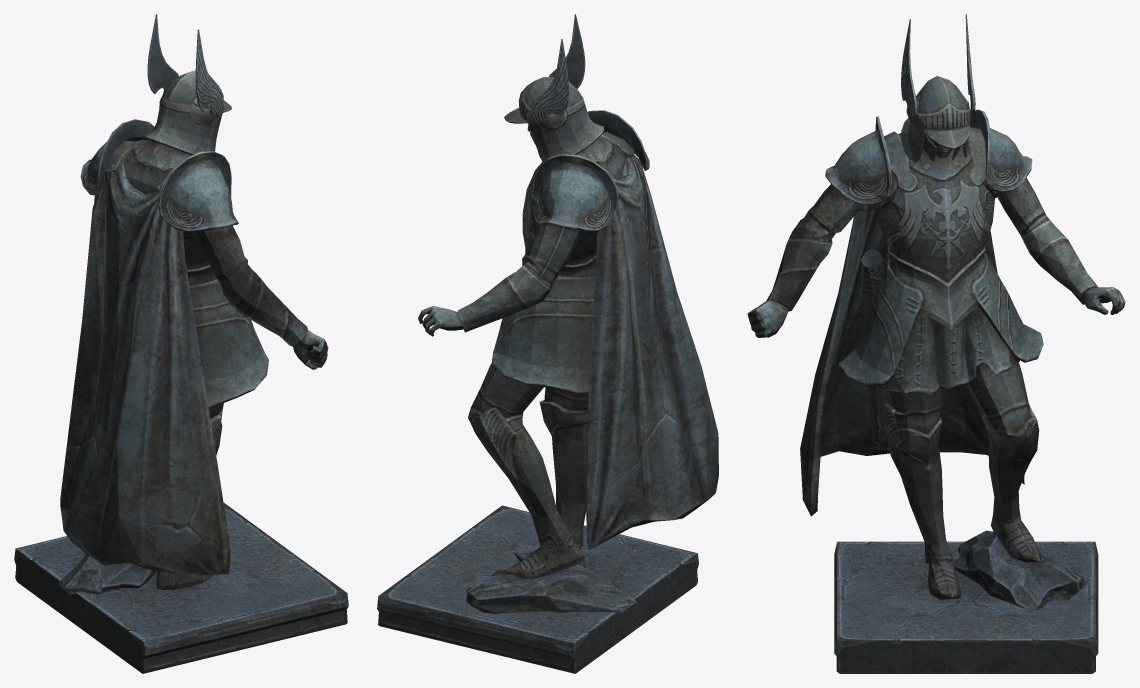
The model's file is bg_lut_lucastle_herostatue15_sm_artree.FBX.
The picture shows the model from 3 angles, left to right: view 1: azimuth 30°, elevation 25°; view 2: azimuth 150°, elevation 25°; view 3: azimuth 270°, elevation 25°; orthographic projection. The views are drawn at different scales.
Parts seen in each view (by area): view 1: bg_lut_lucastle_herostatue15_sm_artree; view 2: bg_lut_lucastle_herostatue15_sm_artree; view 3: bg_lut_lucastle_herostatue15_sm_artree.
Boxes of the visible parts, x1,y1,x2,y2 form: bg_lut_lucastle_herostatue15_sm_artree: [14, 14, 348, 673]; bg_lut_lucastle_herostatue15_sm_artree: [377, 14, 718, 673]; bg_lut_lucastle_herostatue15_sm_artree: [747, 14, 1125, 673].
Size of the model in its own units: 153 by 368 by 210.
